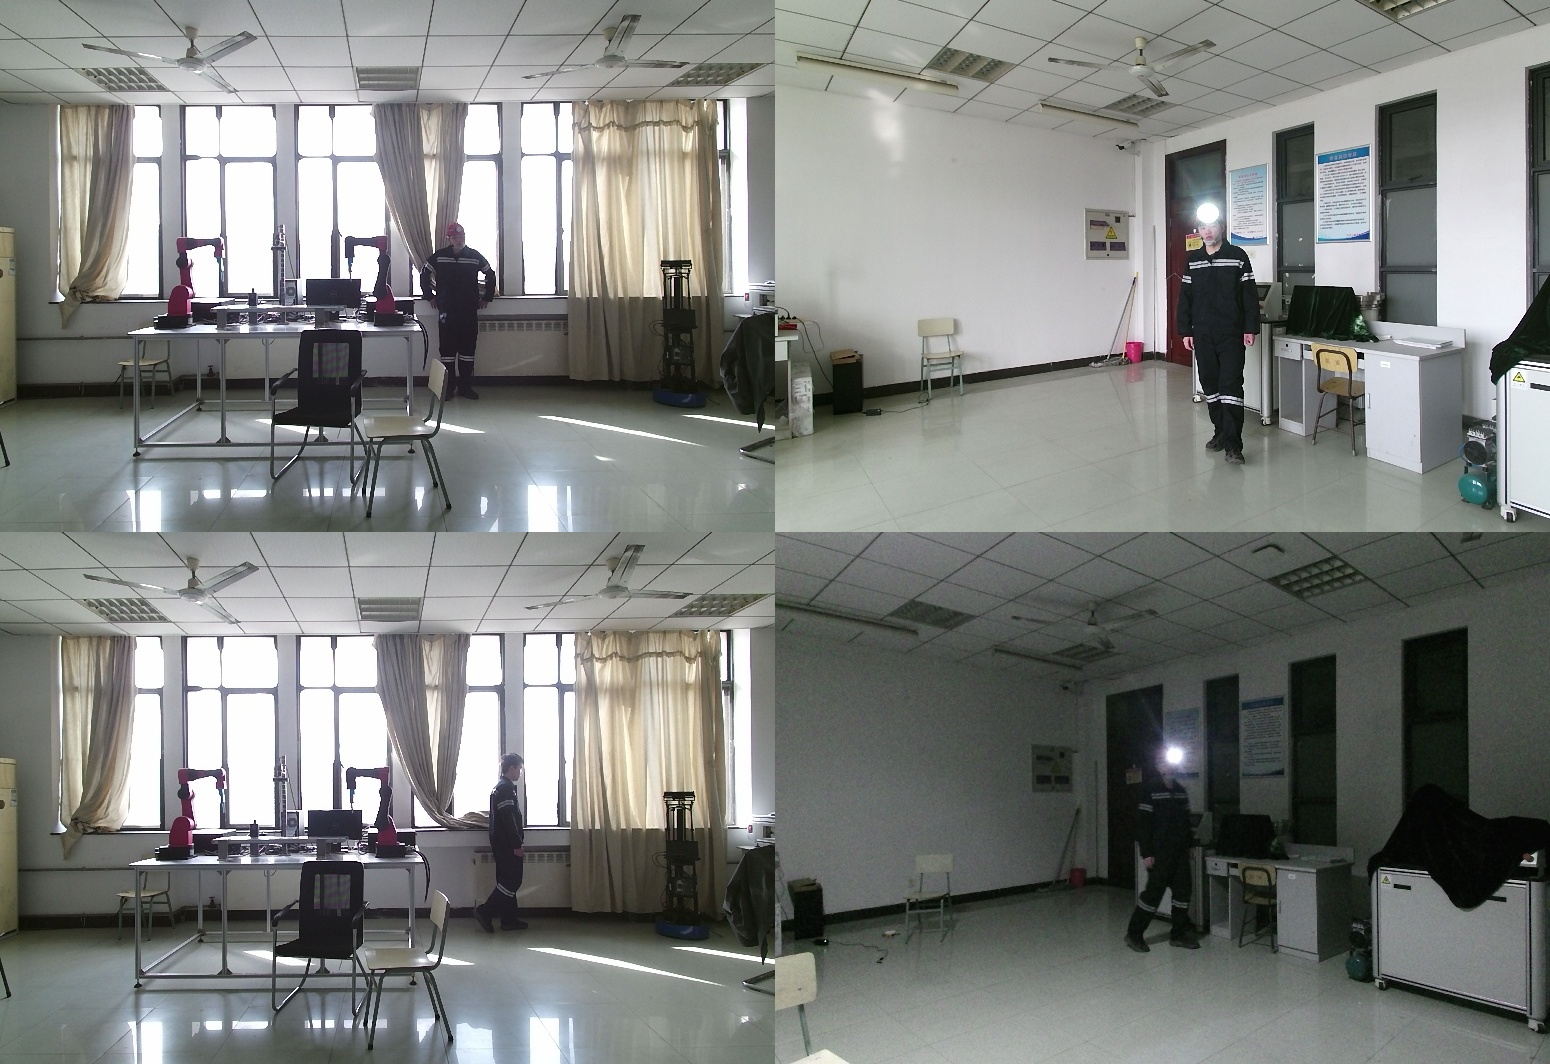person: (1177, 204, 1272, 469), (1124, 747, 1200, 965), (420, 224, 499, 404), (464, 752, 529, 940)
